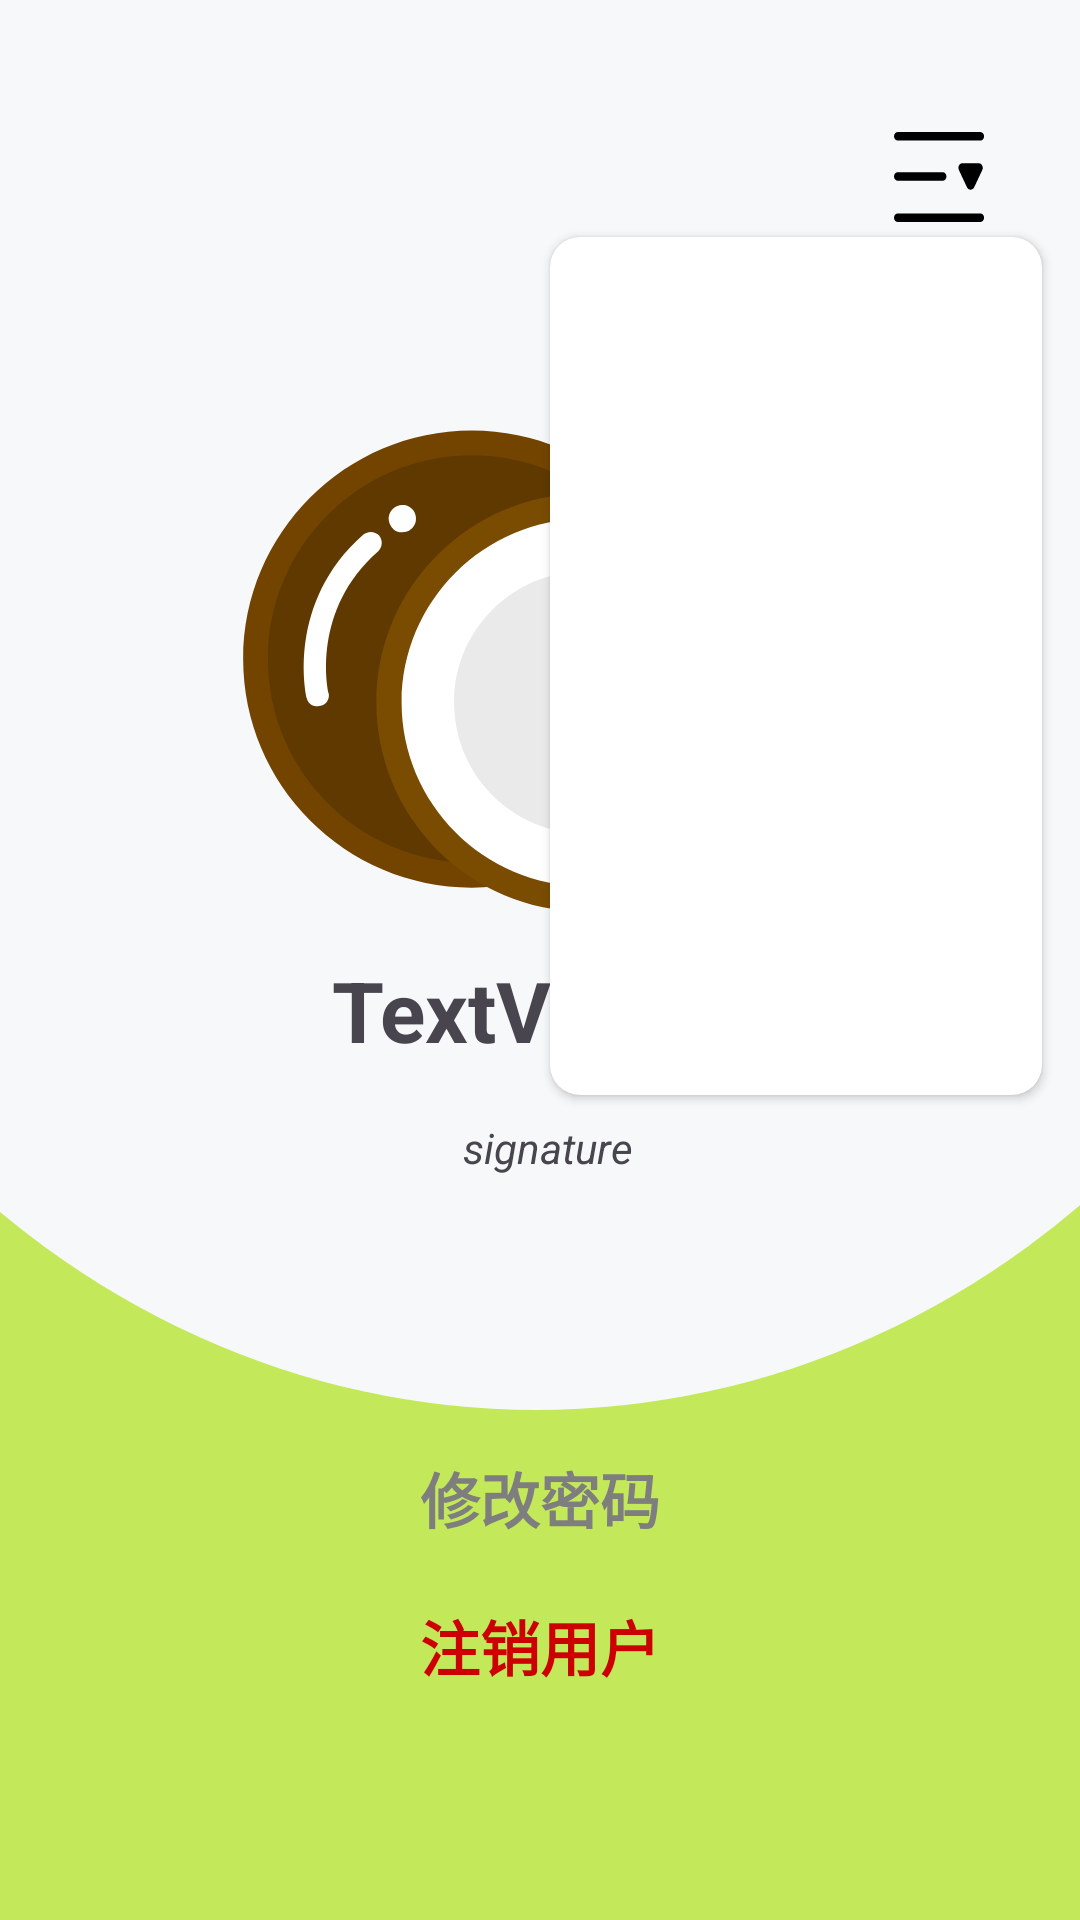

Named icons in this screenshot (1080x1920) and their bounding boxes, (x1, y1, x2, y2):
expend: (894, 132, 984, 222)
